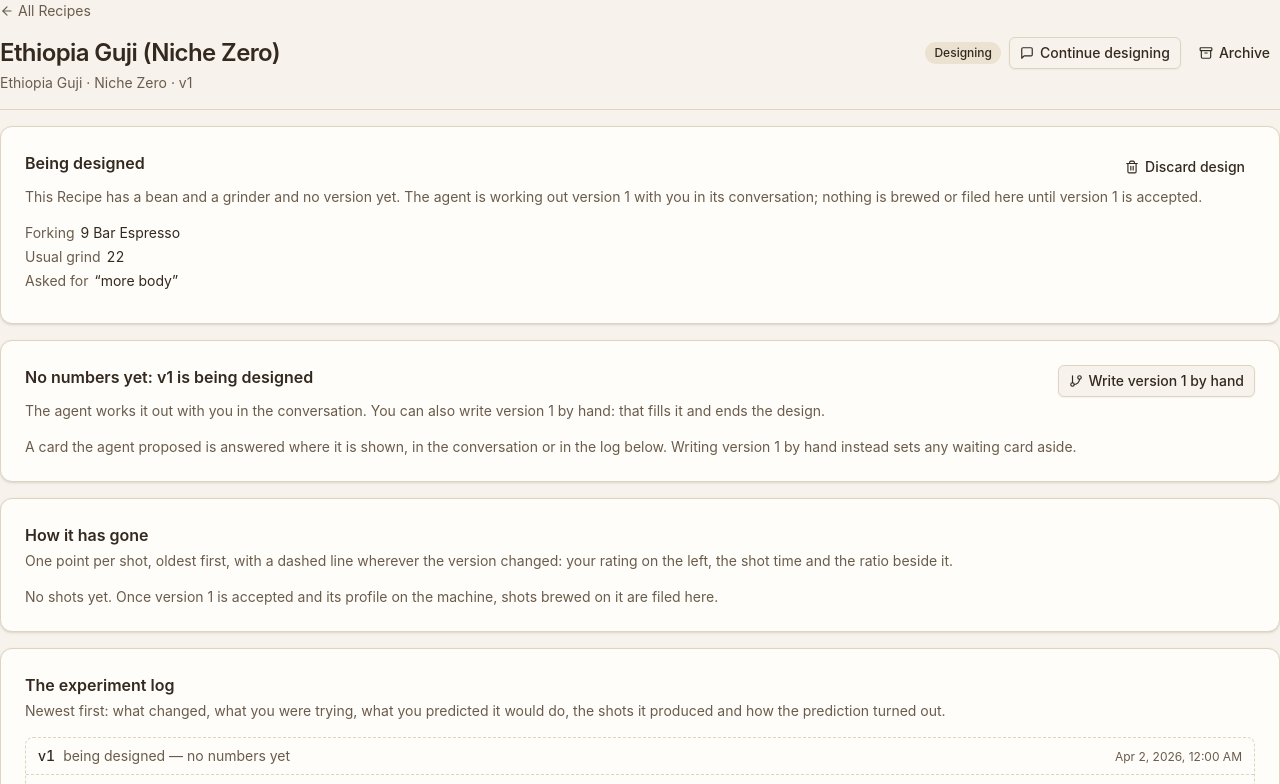
RecipeDetailPage, a Recipe being designed › says in words why a Recipe that has a first version now is not discarded
Click the button with test id "discard-design". click: point(1185, 167)
box: [1115,151,1255,183]
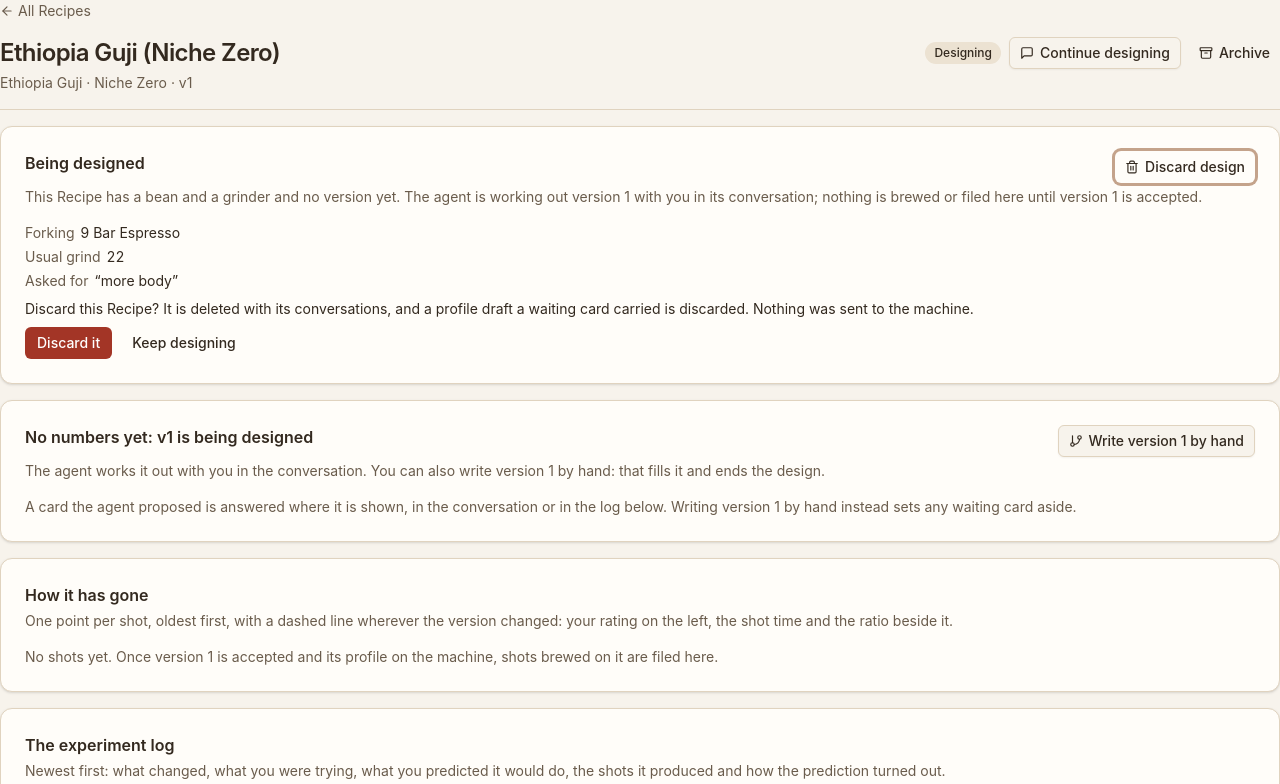
Click the button "Discard it". click: point(69, 343)
box: [25,327,112,359]
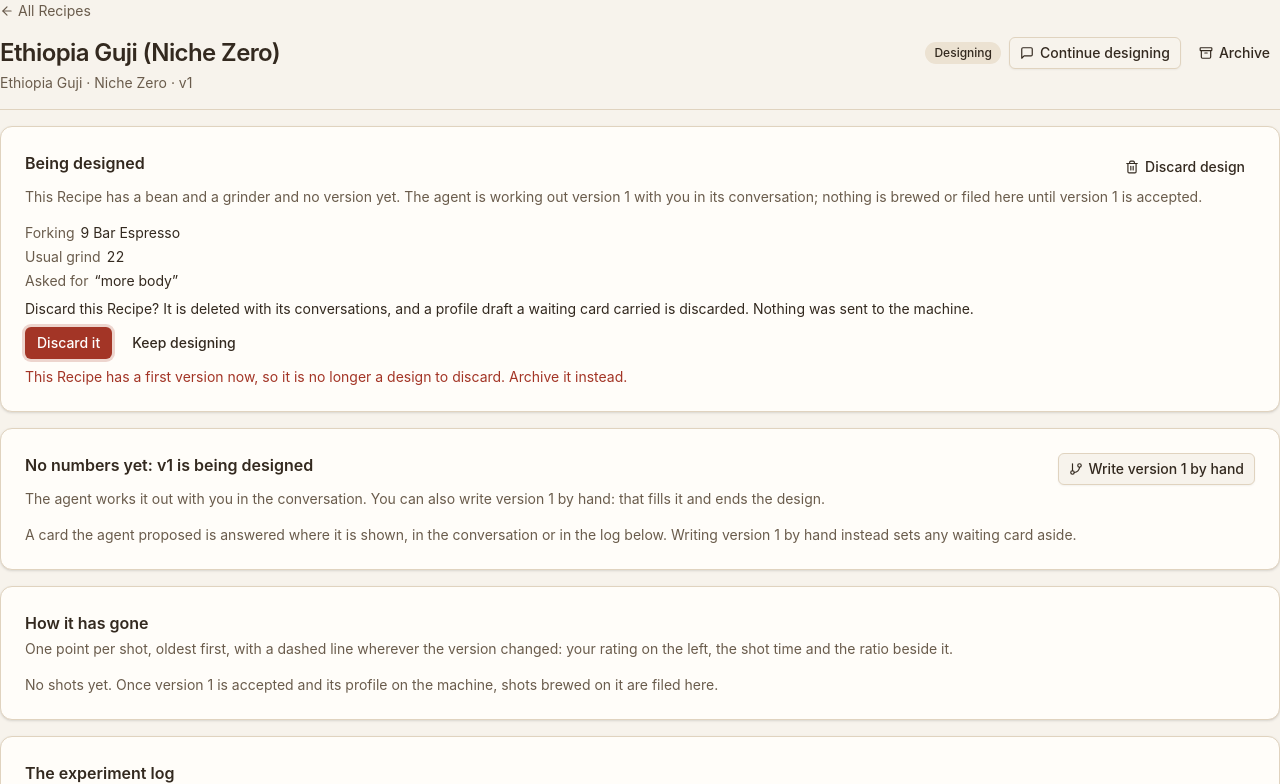
Expected: the text with test id "discard-refused" shows "Archive it instead", [25,368,627,385]
